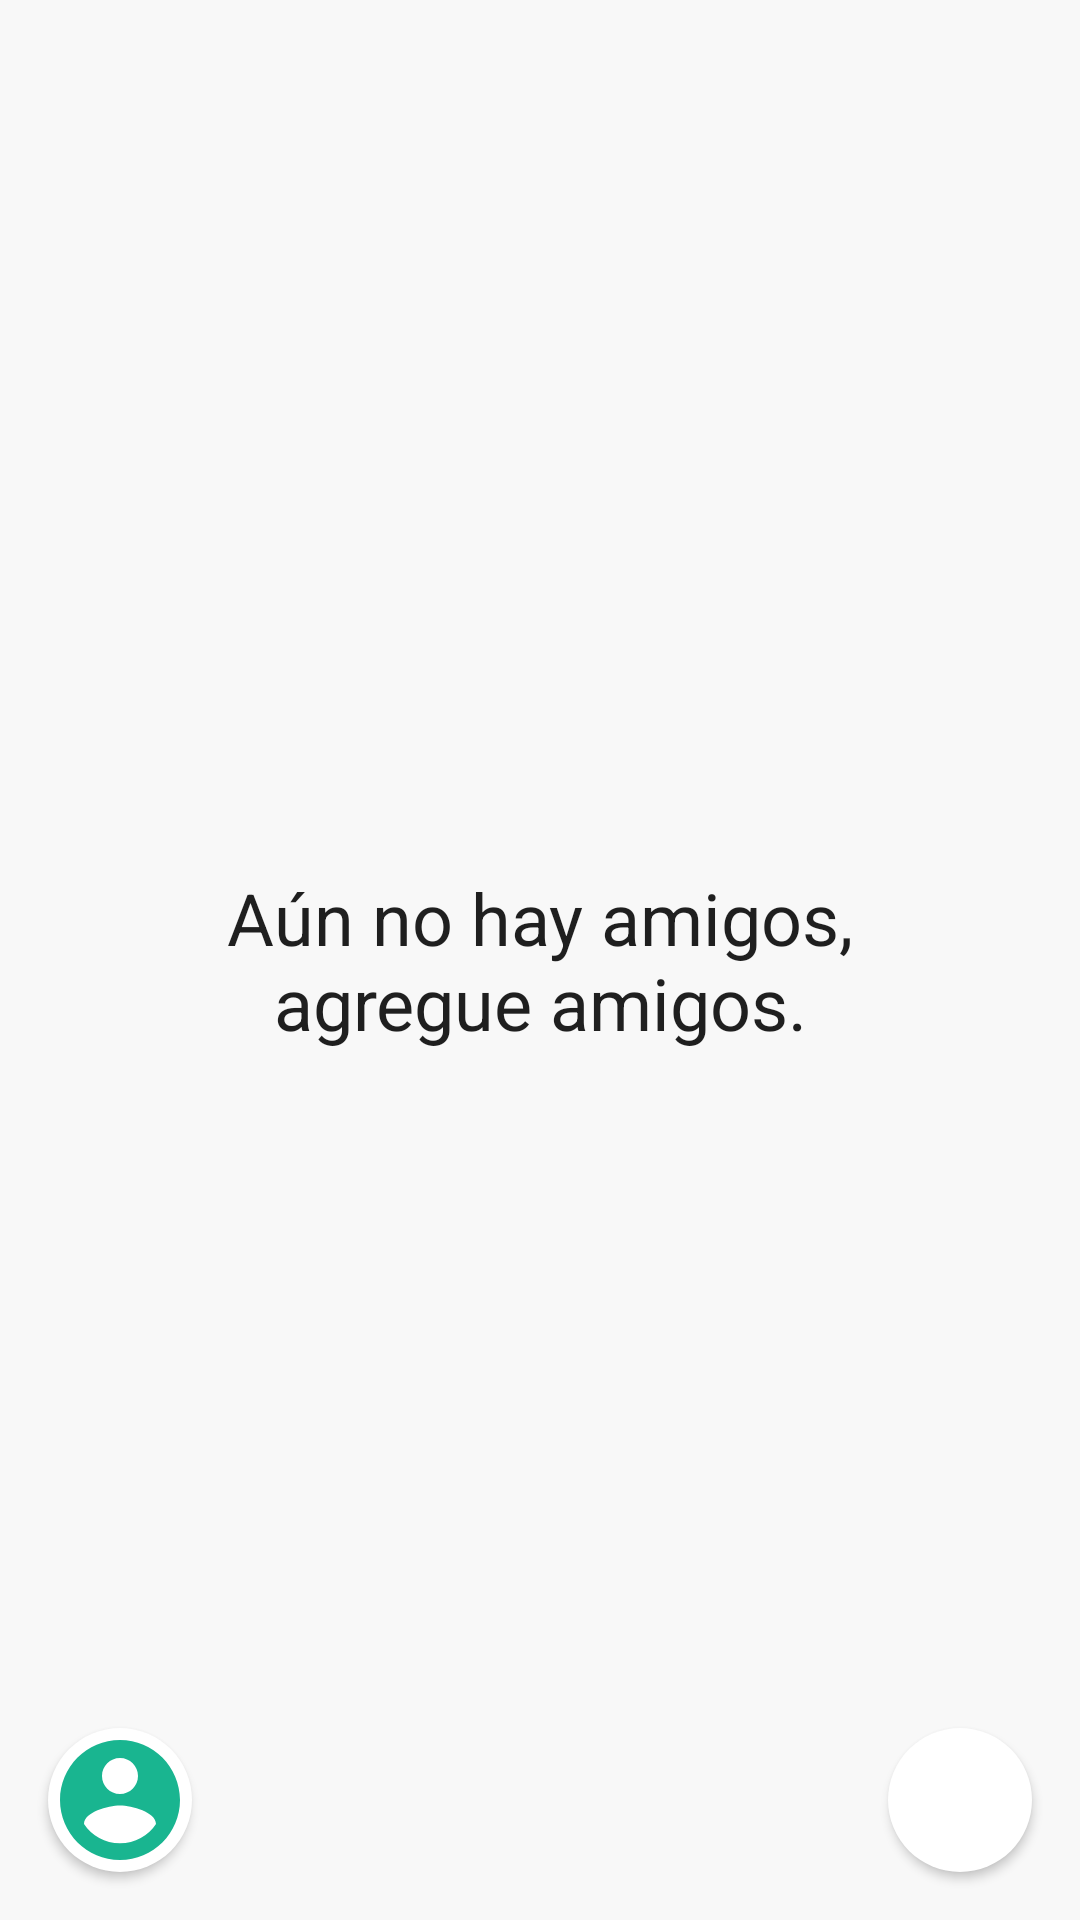

Icon click points for this 1080×1920 phone screenshot, format (x=x, y=y):
account circle: (x=122, y=1800)
